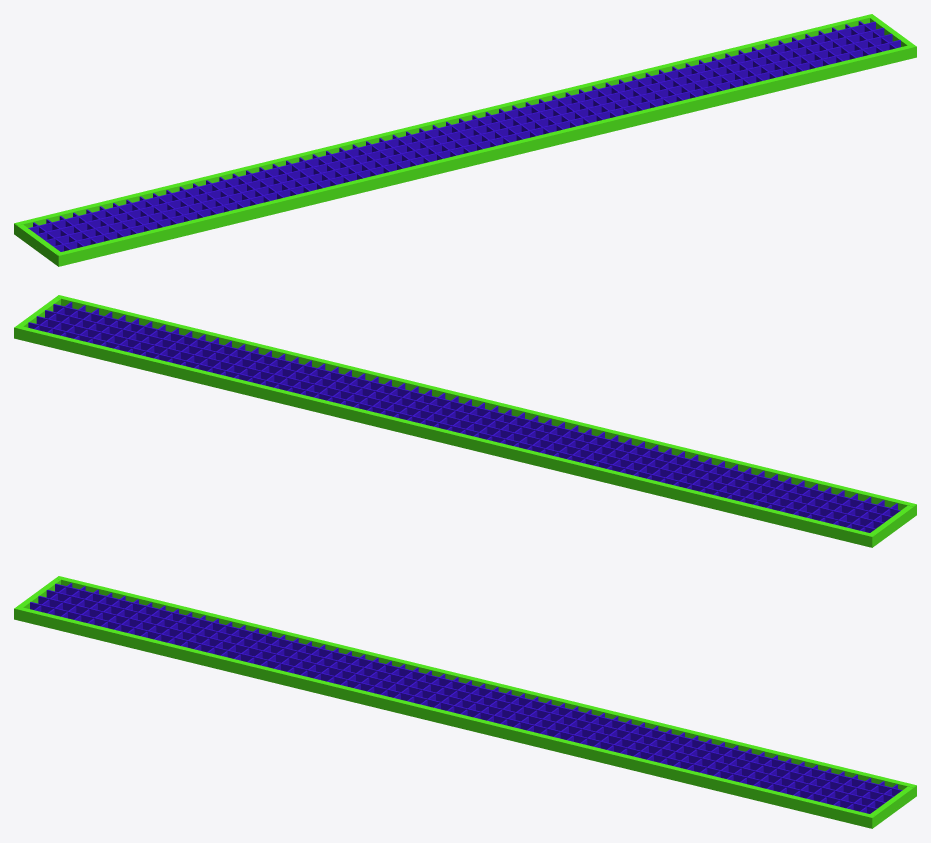
Rendered from Lamp.fbx.
The picture shows the model from 3 angles, top to bottom: view 1: azimuth 30°, elevation 25°; view 2: azimuth 150°, elevation 25°; view 3: azimuth 330°, elevation 25°; orthographic projection.
Visible parts, largest first — view 1: Lamp; view 2: Lamp; view 3: Lamp.
Part boxes in pixels (x1=…): Lamp: x1=14, y1=14, x2=916, y2=266; Lamp: x1=14, y1=295, x2=916, y2=547; Lamp: x1=14, y1=576, x2=916, y2=828.
Size of the model in its own units: 84.22 by 1.03 by 7.59.
